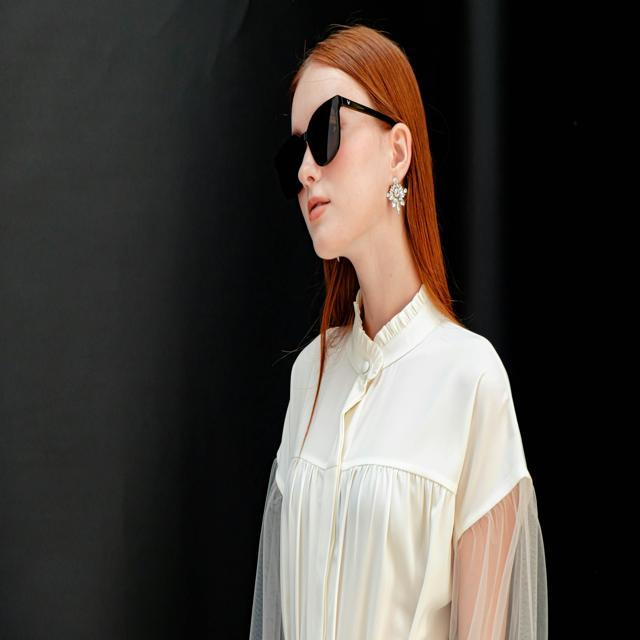2_gafas: (274, 93, 364, 191)
